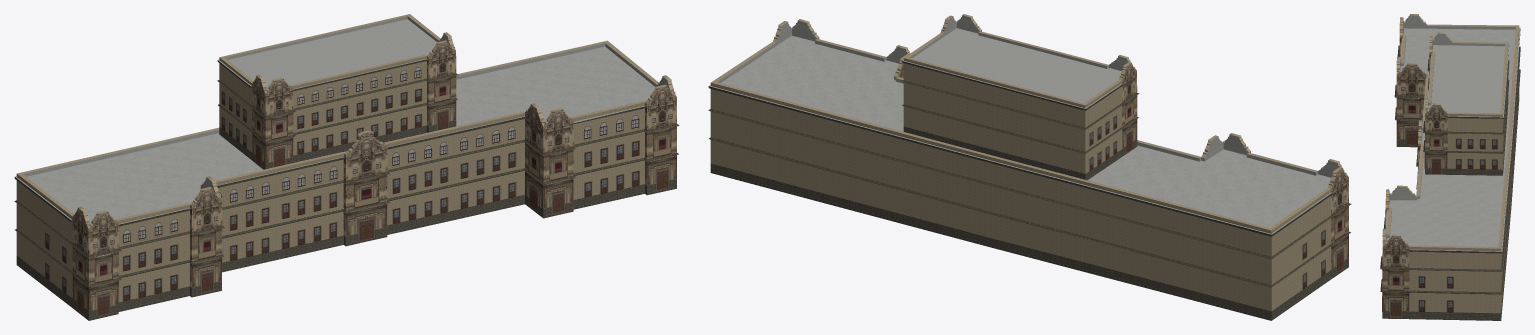
Rendered from Mexico_track_landmark02.dae.
The picture shows the model from 3 angles, left to right: view 1: azimuth 30°, elevation 25°; view 2: azimuth 150°, elevation 25°; view 3: azimuth 270°, elevation 25°; orthographic projection. The views are drawn at different scales.
Visible parts, largest first — view 1: landmark02; view 2: landmark02; view 3: landmark02.
Part boxes in pixels (x1,y1,x2,y2): landmark02: [14, 14, 679, 320]; landmark02: [708, 14, 1351, 320]; landmark02: [1380, 14, 1520, 320].
Size of the model in its own units: 22.31 by 5.87 by 6.42.
Materials: 5 (5 with a texture image).
